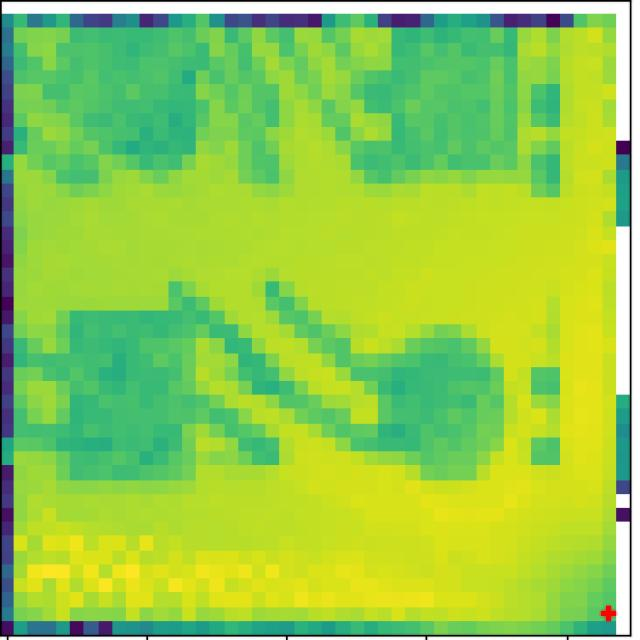Concrete: (388, 29, 520, 181)
Glass: (58, 32, 205, 176)
Metal: (372, 327, 513, 476)
Wood: (63, 310, 198, 481)
